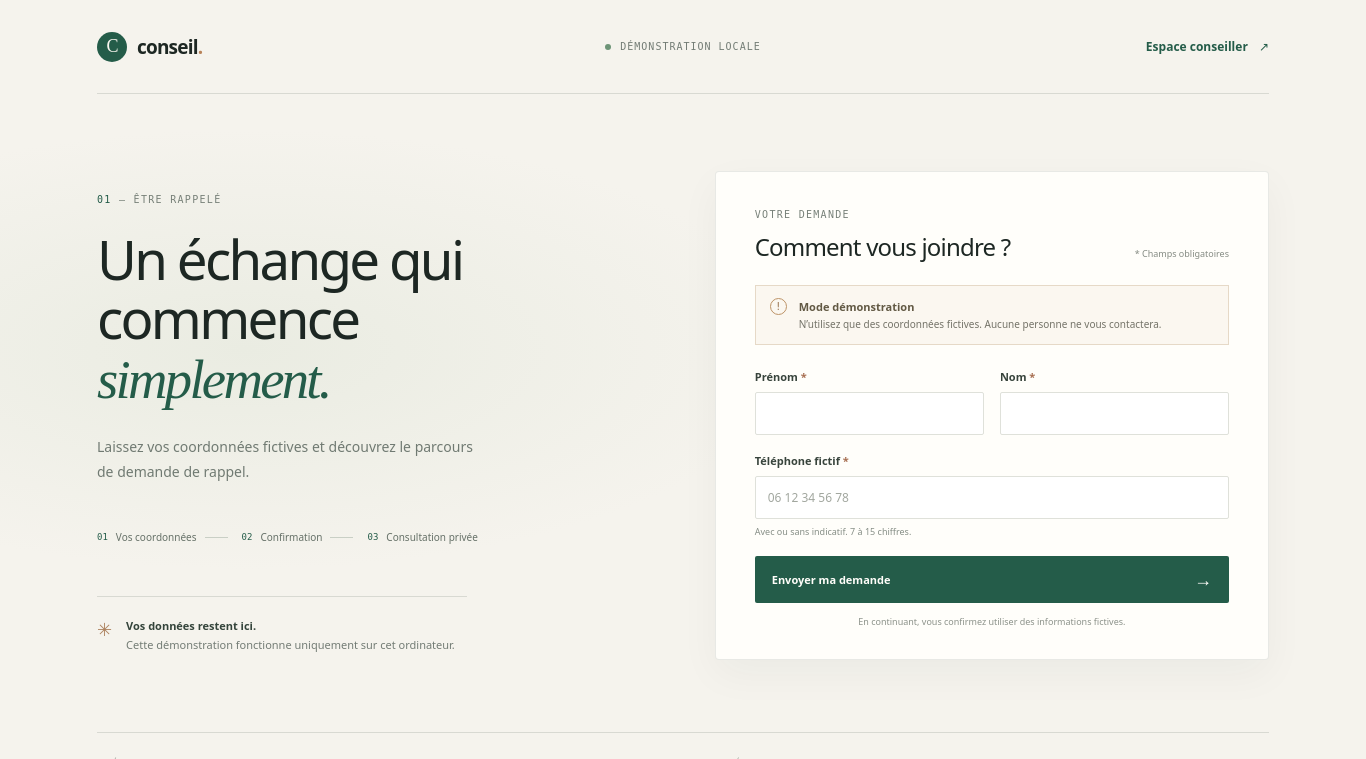
Test: callback request journey › rejects phone numbers outside the seven-to-fifteen digit range
Type "Camille" into the field labelled "Prénom *" at (869, 413), box [755,392,984,435]
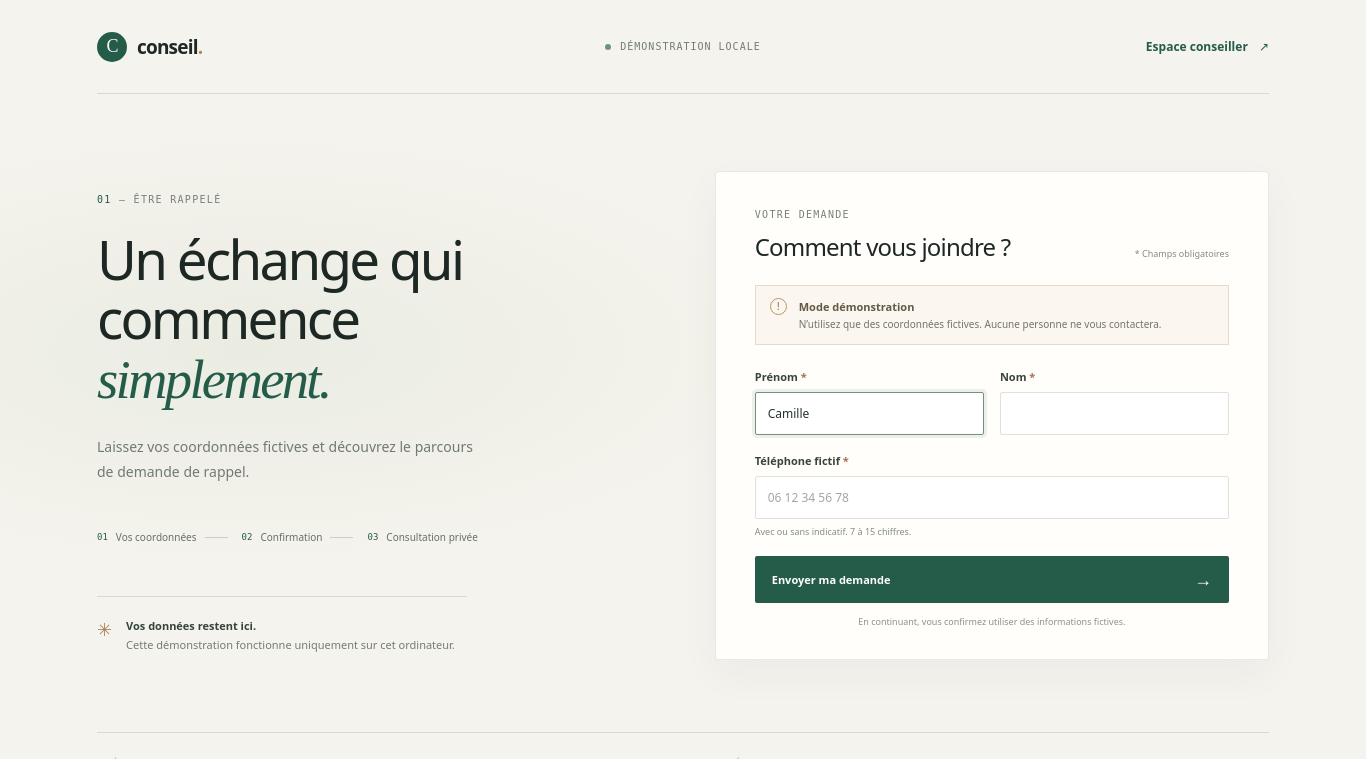
Type "Martin" into the field labelled "Nom *" at (1114, 413), box [1000,392,1229,435]
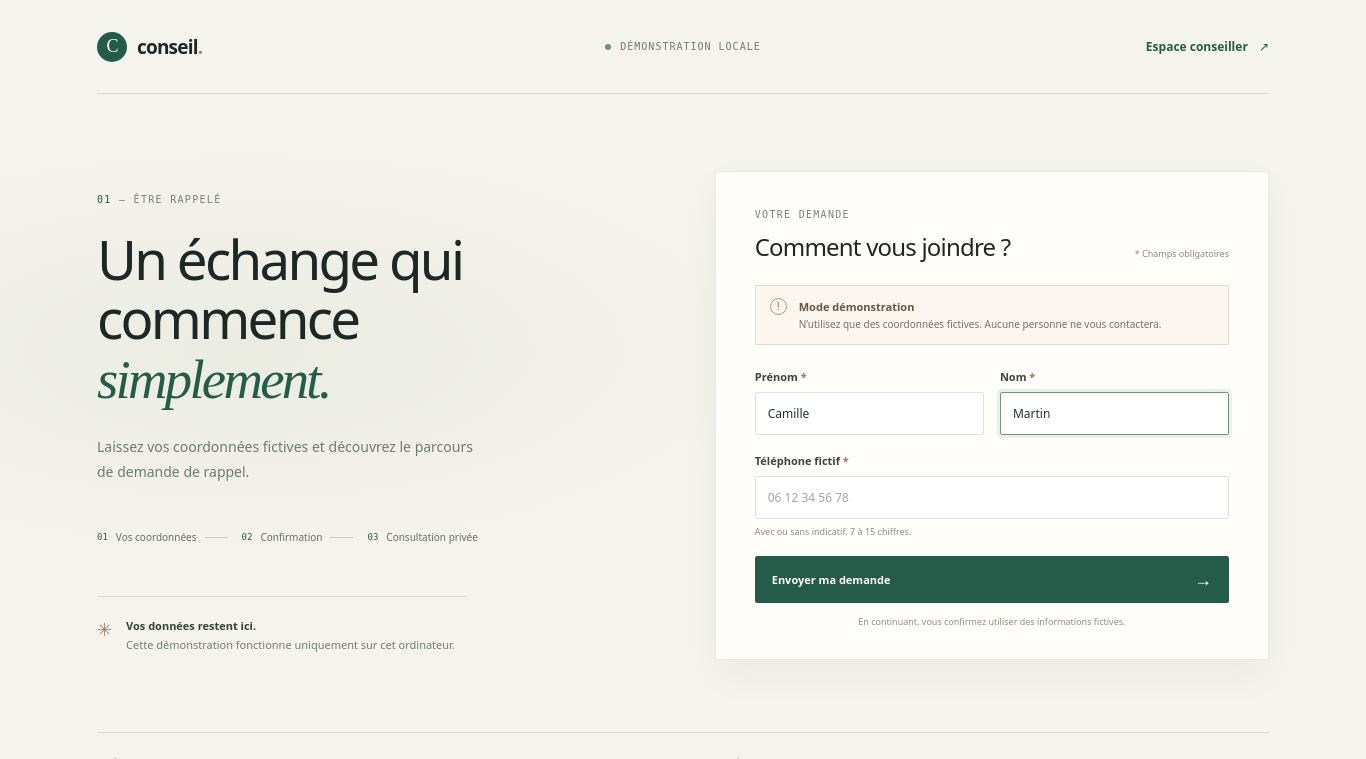
Type "123456" into the field labelled "Téléphone fictif *" at (992, 497), box [755,476,1229,519]
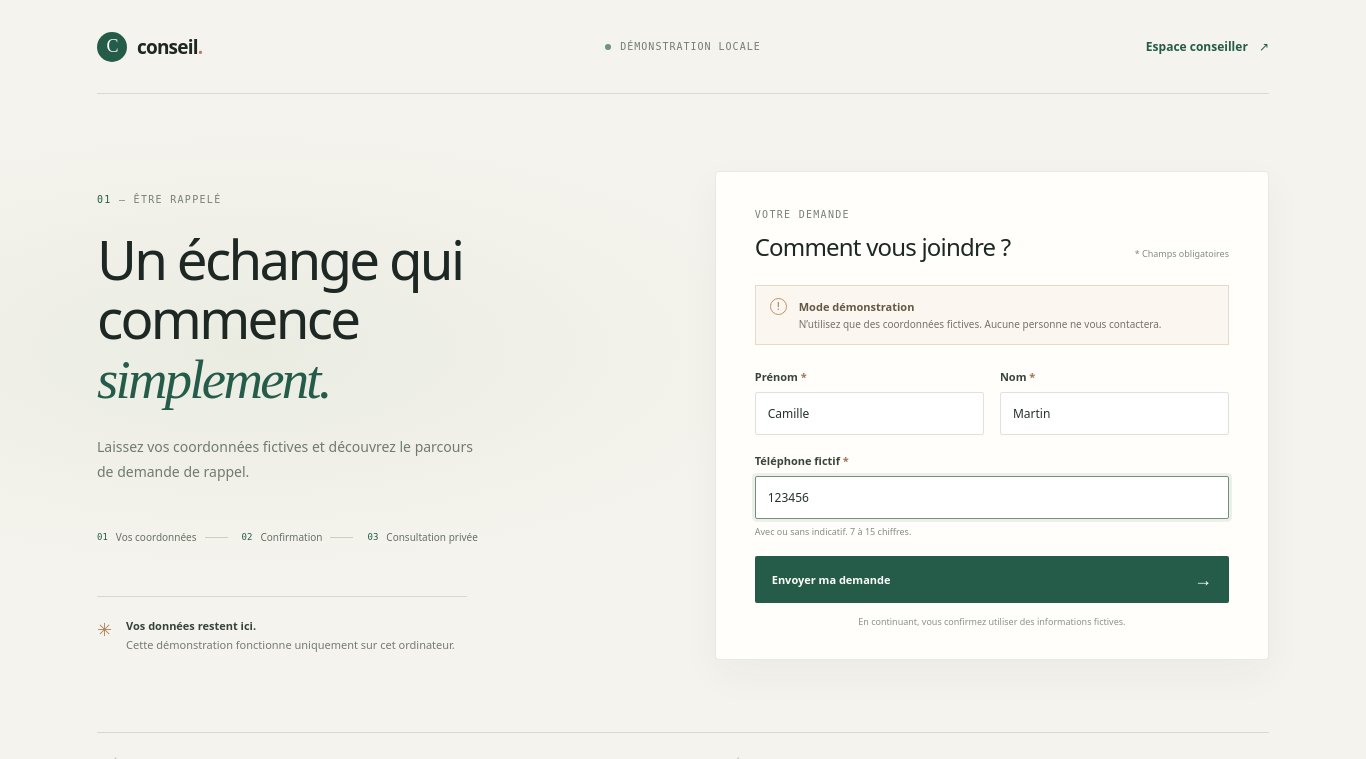
Click the button "Envoyer ma demande →" at (831, 579), box [755,556,1229,603]
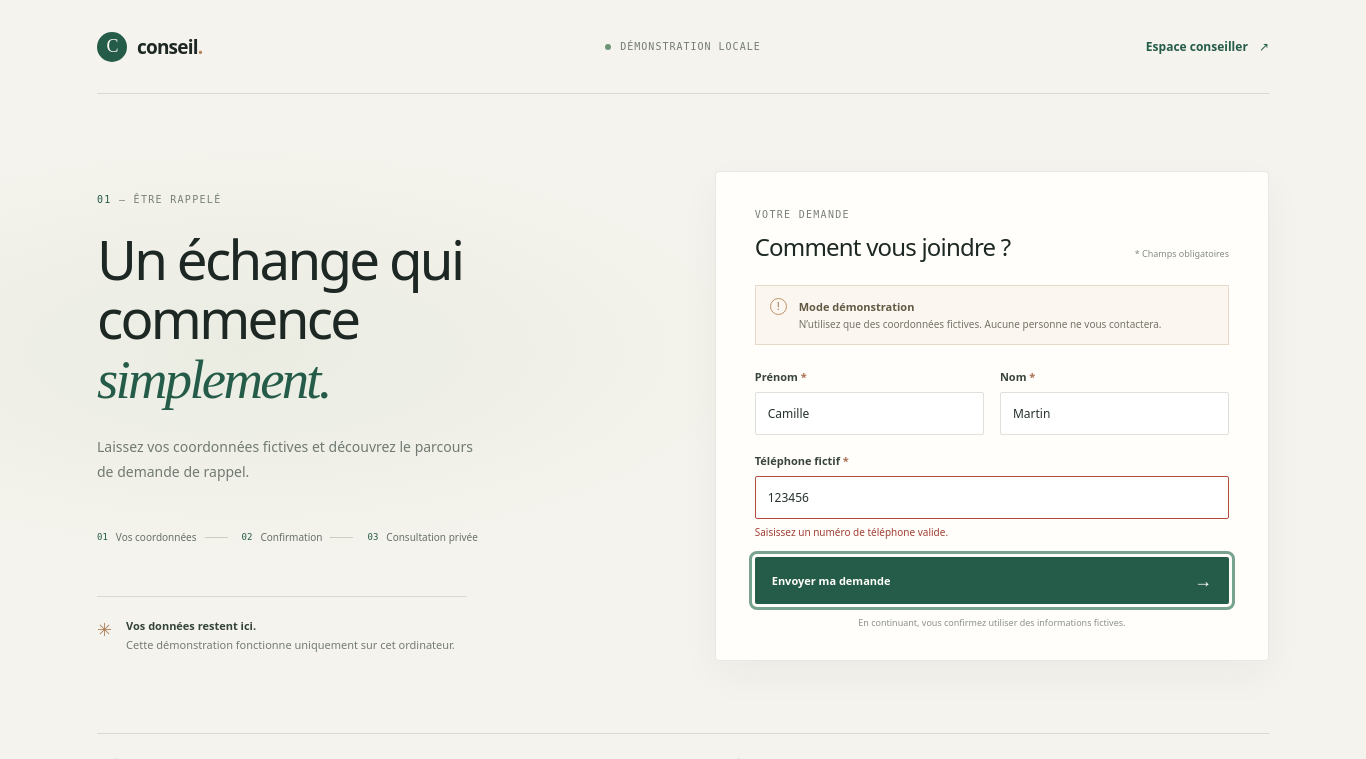
Expected: the text "Saisissez un numéro de téléphone valide." is shown, [755,525,948,539]
Replace the text in the field labelled "Téléphone fictif *" with "1234567890123456" at (992, 497), box [755,476,1229,519]
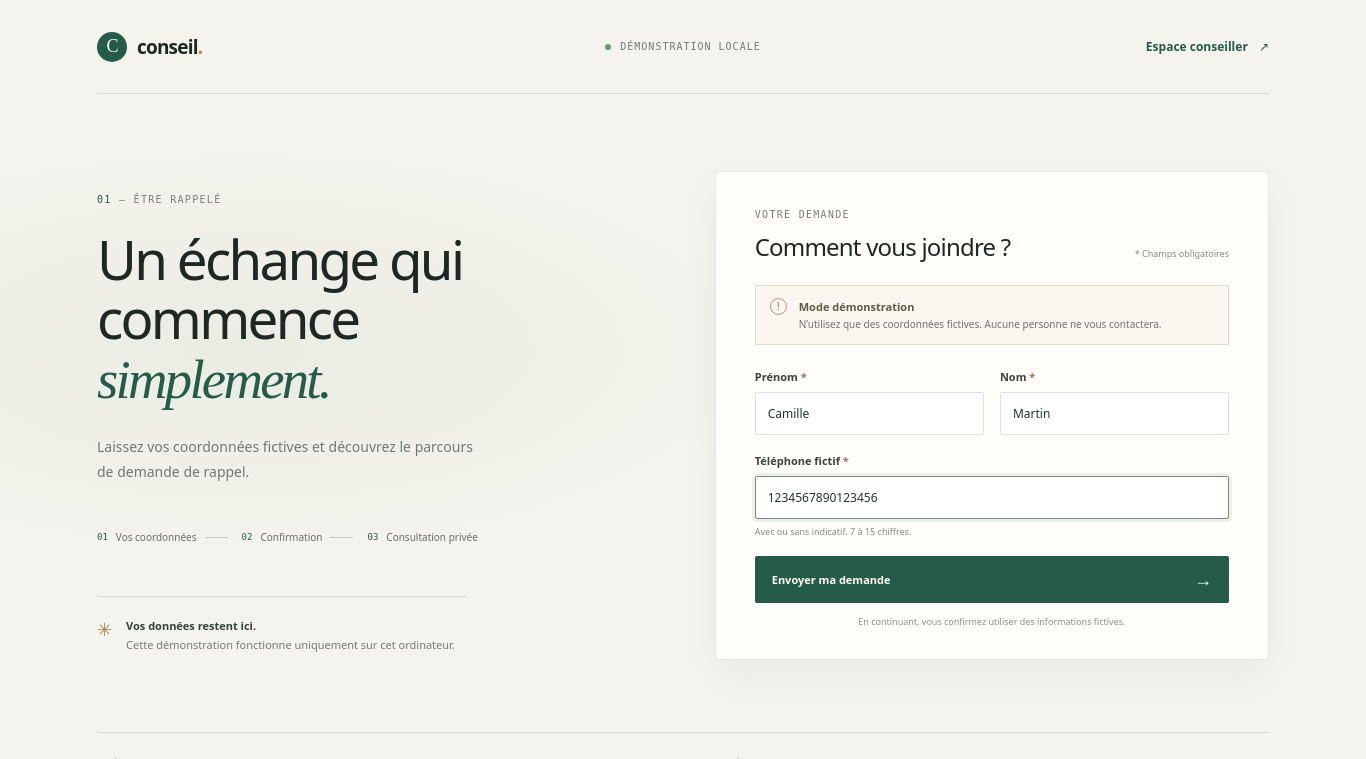
Click the button "Envoyer ma demande →" at (831, 579), box [755,556,1229,603]
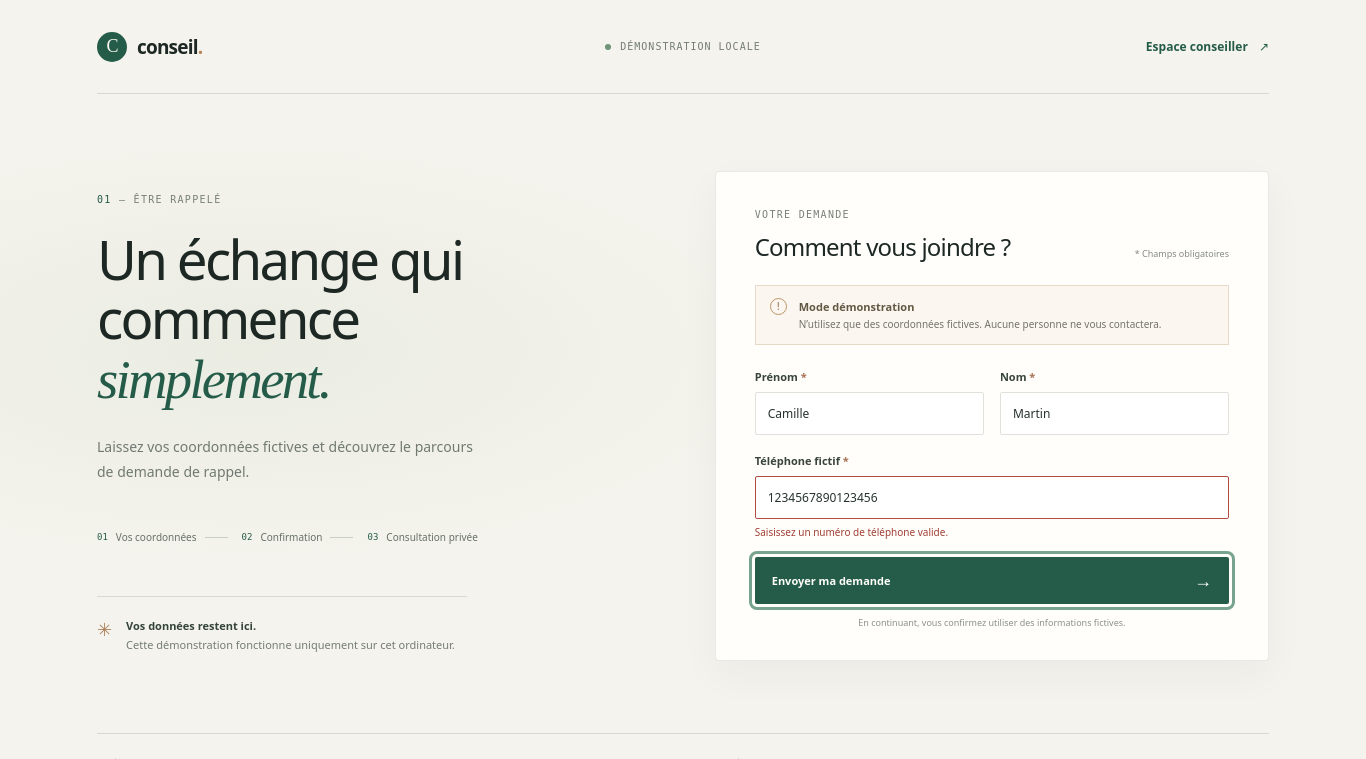
Expected: the text "Saisissez un numéro de téléphone valide." is shown, [755,525,948,539]
